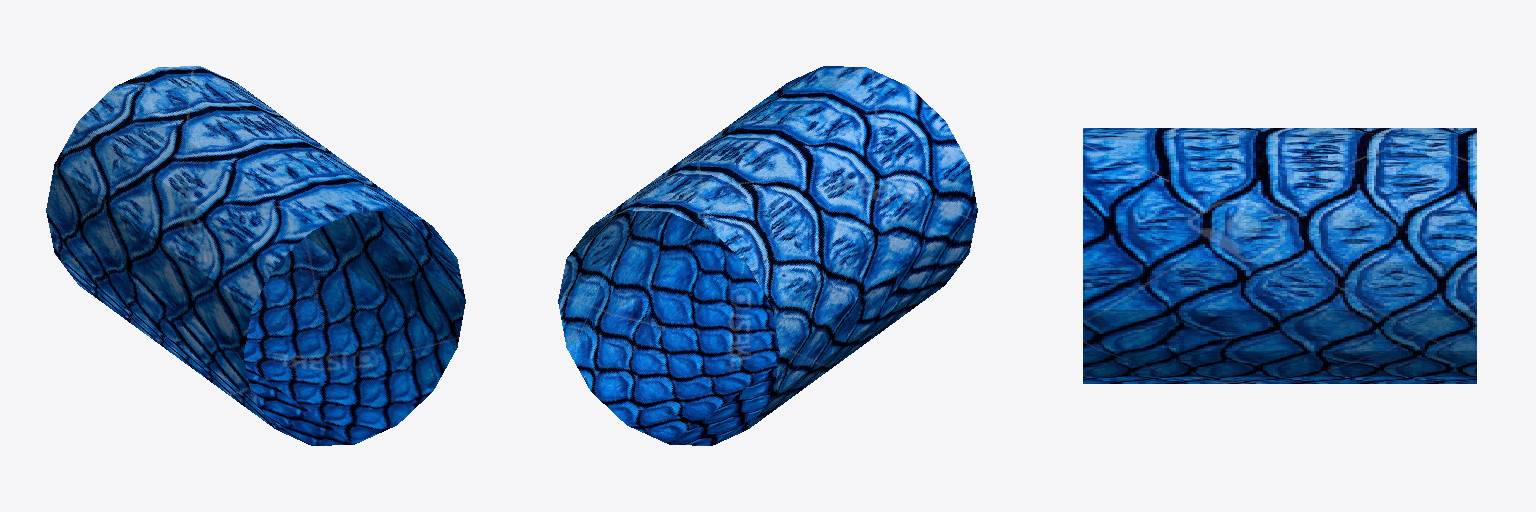
The picture shows the model from 3 angles: view 1: azimuth 30°, elevation 25°; view 2: azimuth 150°, elevation 25°; view 3: azimuth 270°, elevation 25°; orthographic projection.
Parts seen in each view (by area): view 1: SnakeBodyPart; view 2: SnakeBodyPart; view 3: SnakeBodyPart.
Part boxes in pixels (left/top/right/bottom): SnakeBodyPart: left=46, top=66, right=465, bottom=445; SnakeBodyPart: left=558, top=66, right=977, bottom=445; SnakeBodyPart: left=1083, top=128, right=1476, bottom=383.
Size of the model in its own units: 0.65 by 0.65 by 0.9987.
Materials: 1 (1 with a texture image).